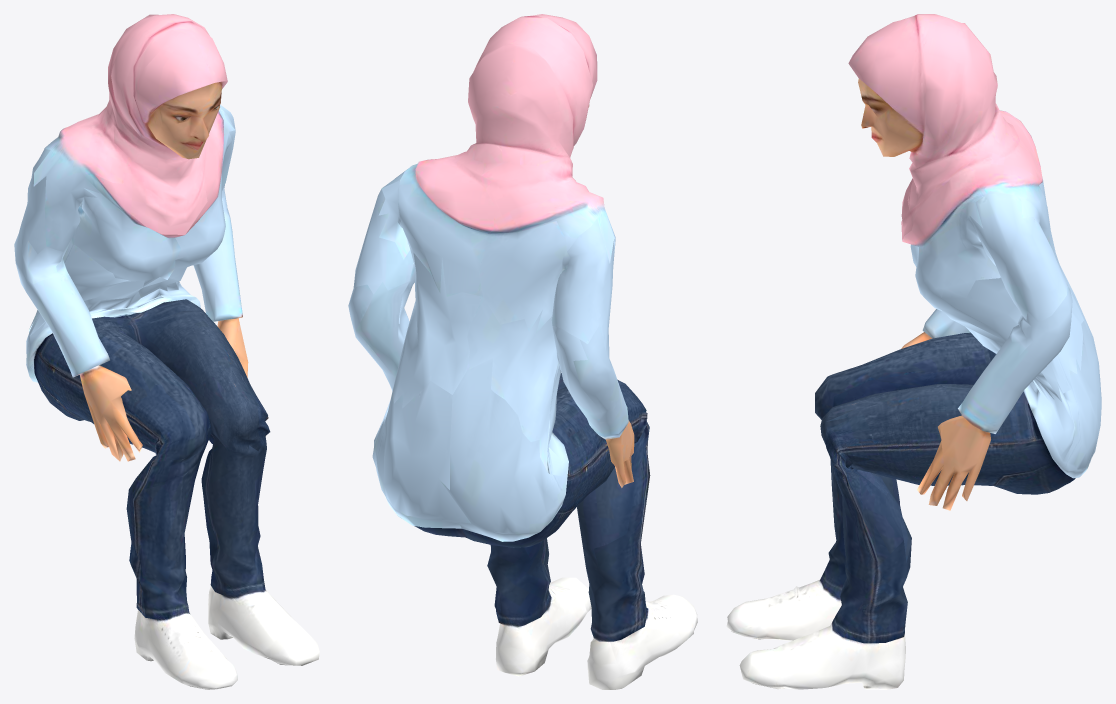
The model's file is fan_tudung_lean.glb.
3 views of the same model, side by side, from view 1: azimuth 30°, elevation 25°; view 2: azimuth 150°, elevation 25°; view 3: azimuth 270°, elevation 25° (orthographic). The views are drawn at different scales.
Parts seen in each view (by area): view 1: char1; view 2: char1; view 3: char1.
Part boxes in pixels (<box>): char1: <box>14,14,319,689</box>; char1: <box>348,14,697,689</box>; char1: <box>726,14,1101,689</box>.
Size of the model in its own units: 0.4424 by 1.19 by 0.6268.
Materials: 1 (1 with a texture image).
